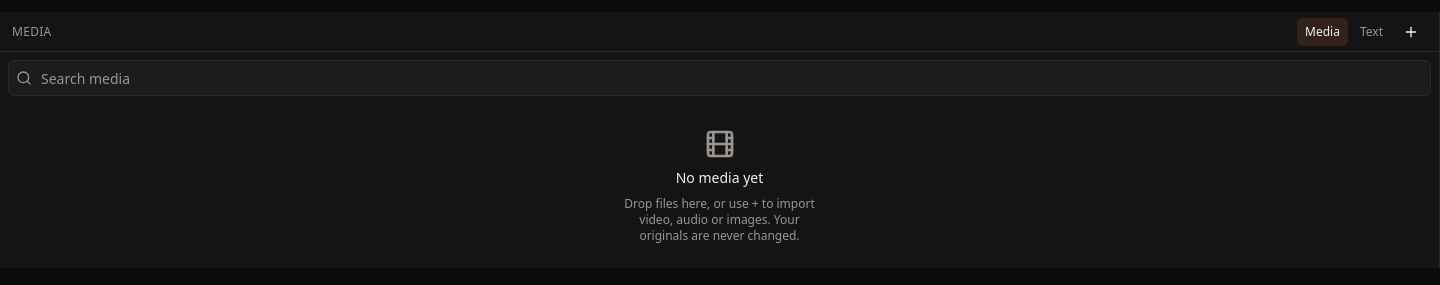
Test case: MediaLibrary › imports files, lists them and filters by search
Click the button named "Import media". click: (1411, 32)
box: [1395,16,1427,48]
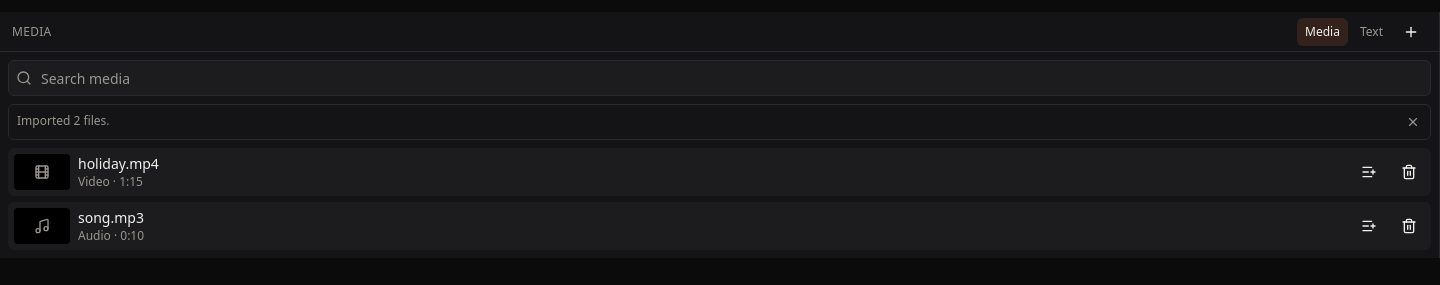
Check: the text "holiday.mp4" is shown, box [78,154,159,173]
Check: the text "Video · 1:15" is shown, box [78,173,143,190]
Check: the list item "Imported 2 files." is shown, box [17,112,110,129]
Type "song" into the search field labelled "Search media". click: (720, 78)
box: [8,60,1431,96]
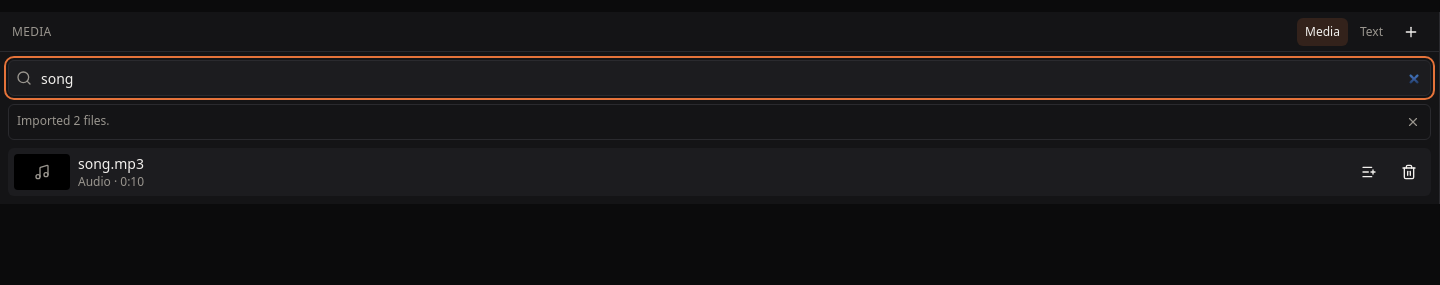
Check: the text "song.mp3" is shown, box [78,154,144,173]
Check: the text "holiday.mp4" is gone
